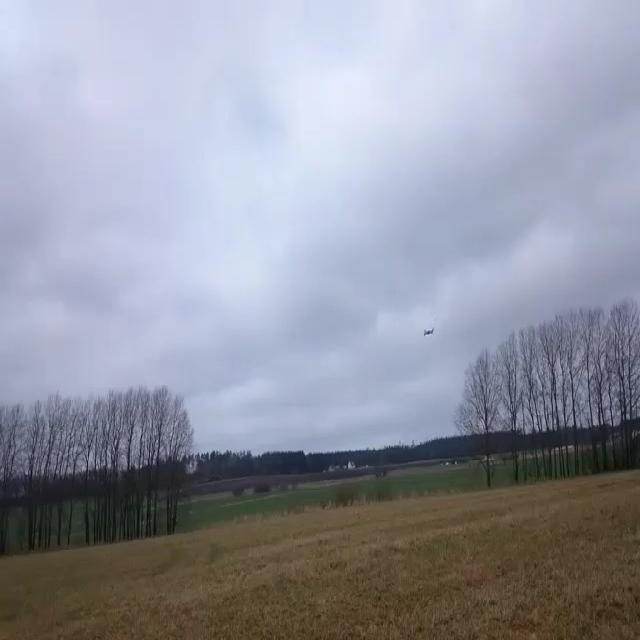drone: (424, 327, 434, 337)
